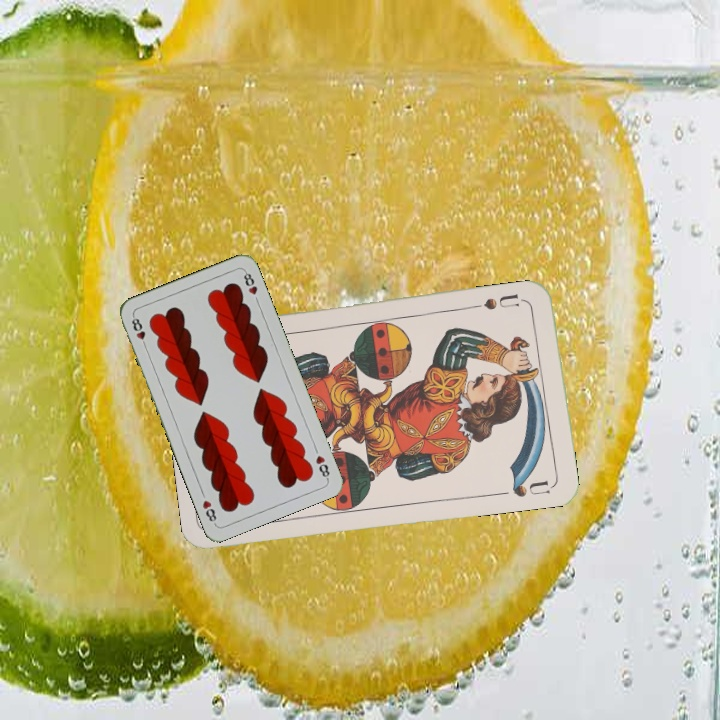H8: (127, 312, 150, 351), (311, 451, 332, 482)
SU: (471, 289, 521, 313)
